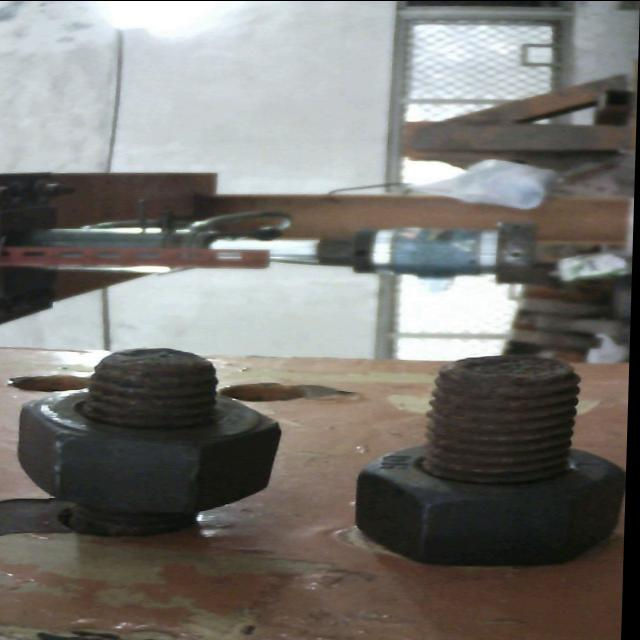Loose bolt: (20, 348, 290, 537)
Missing bolt: (223, 381, 309, 403), (11, 372, 91, 394)
Rusty bolt: (342, 355, 633, 571), (25, 348, 279, 534)
